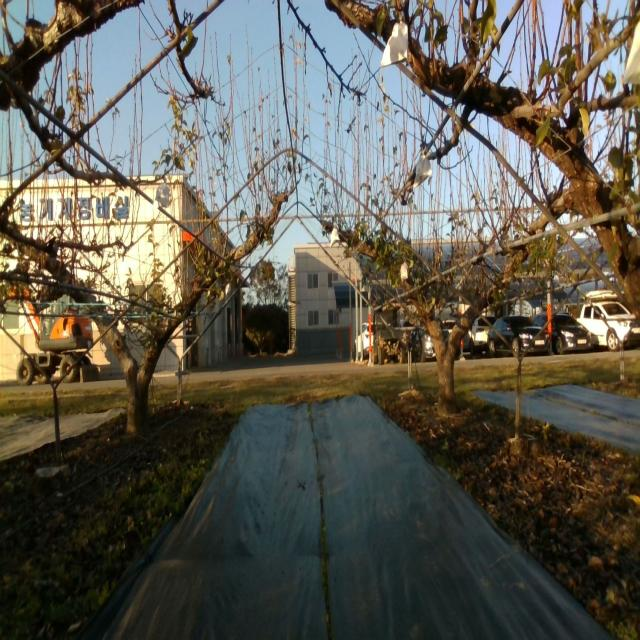pearbags: (379, 20, 408, 69), (413, 155, 432, 189), (153, 177, 170, 210), (330, 228, 340, 249)
